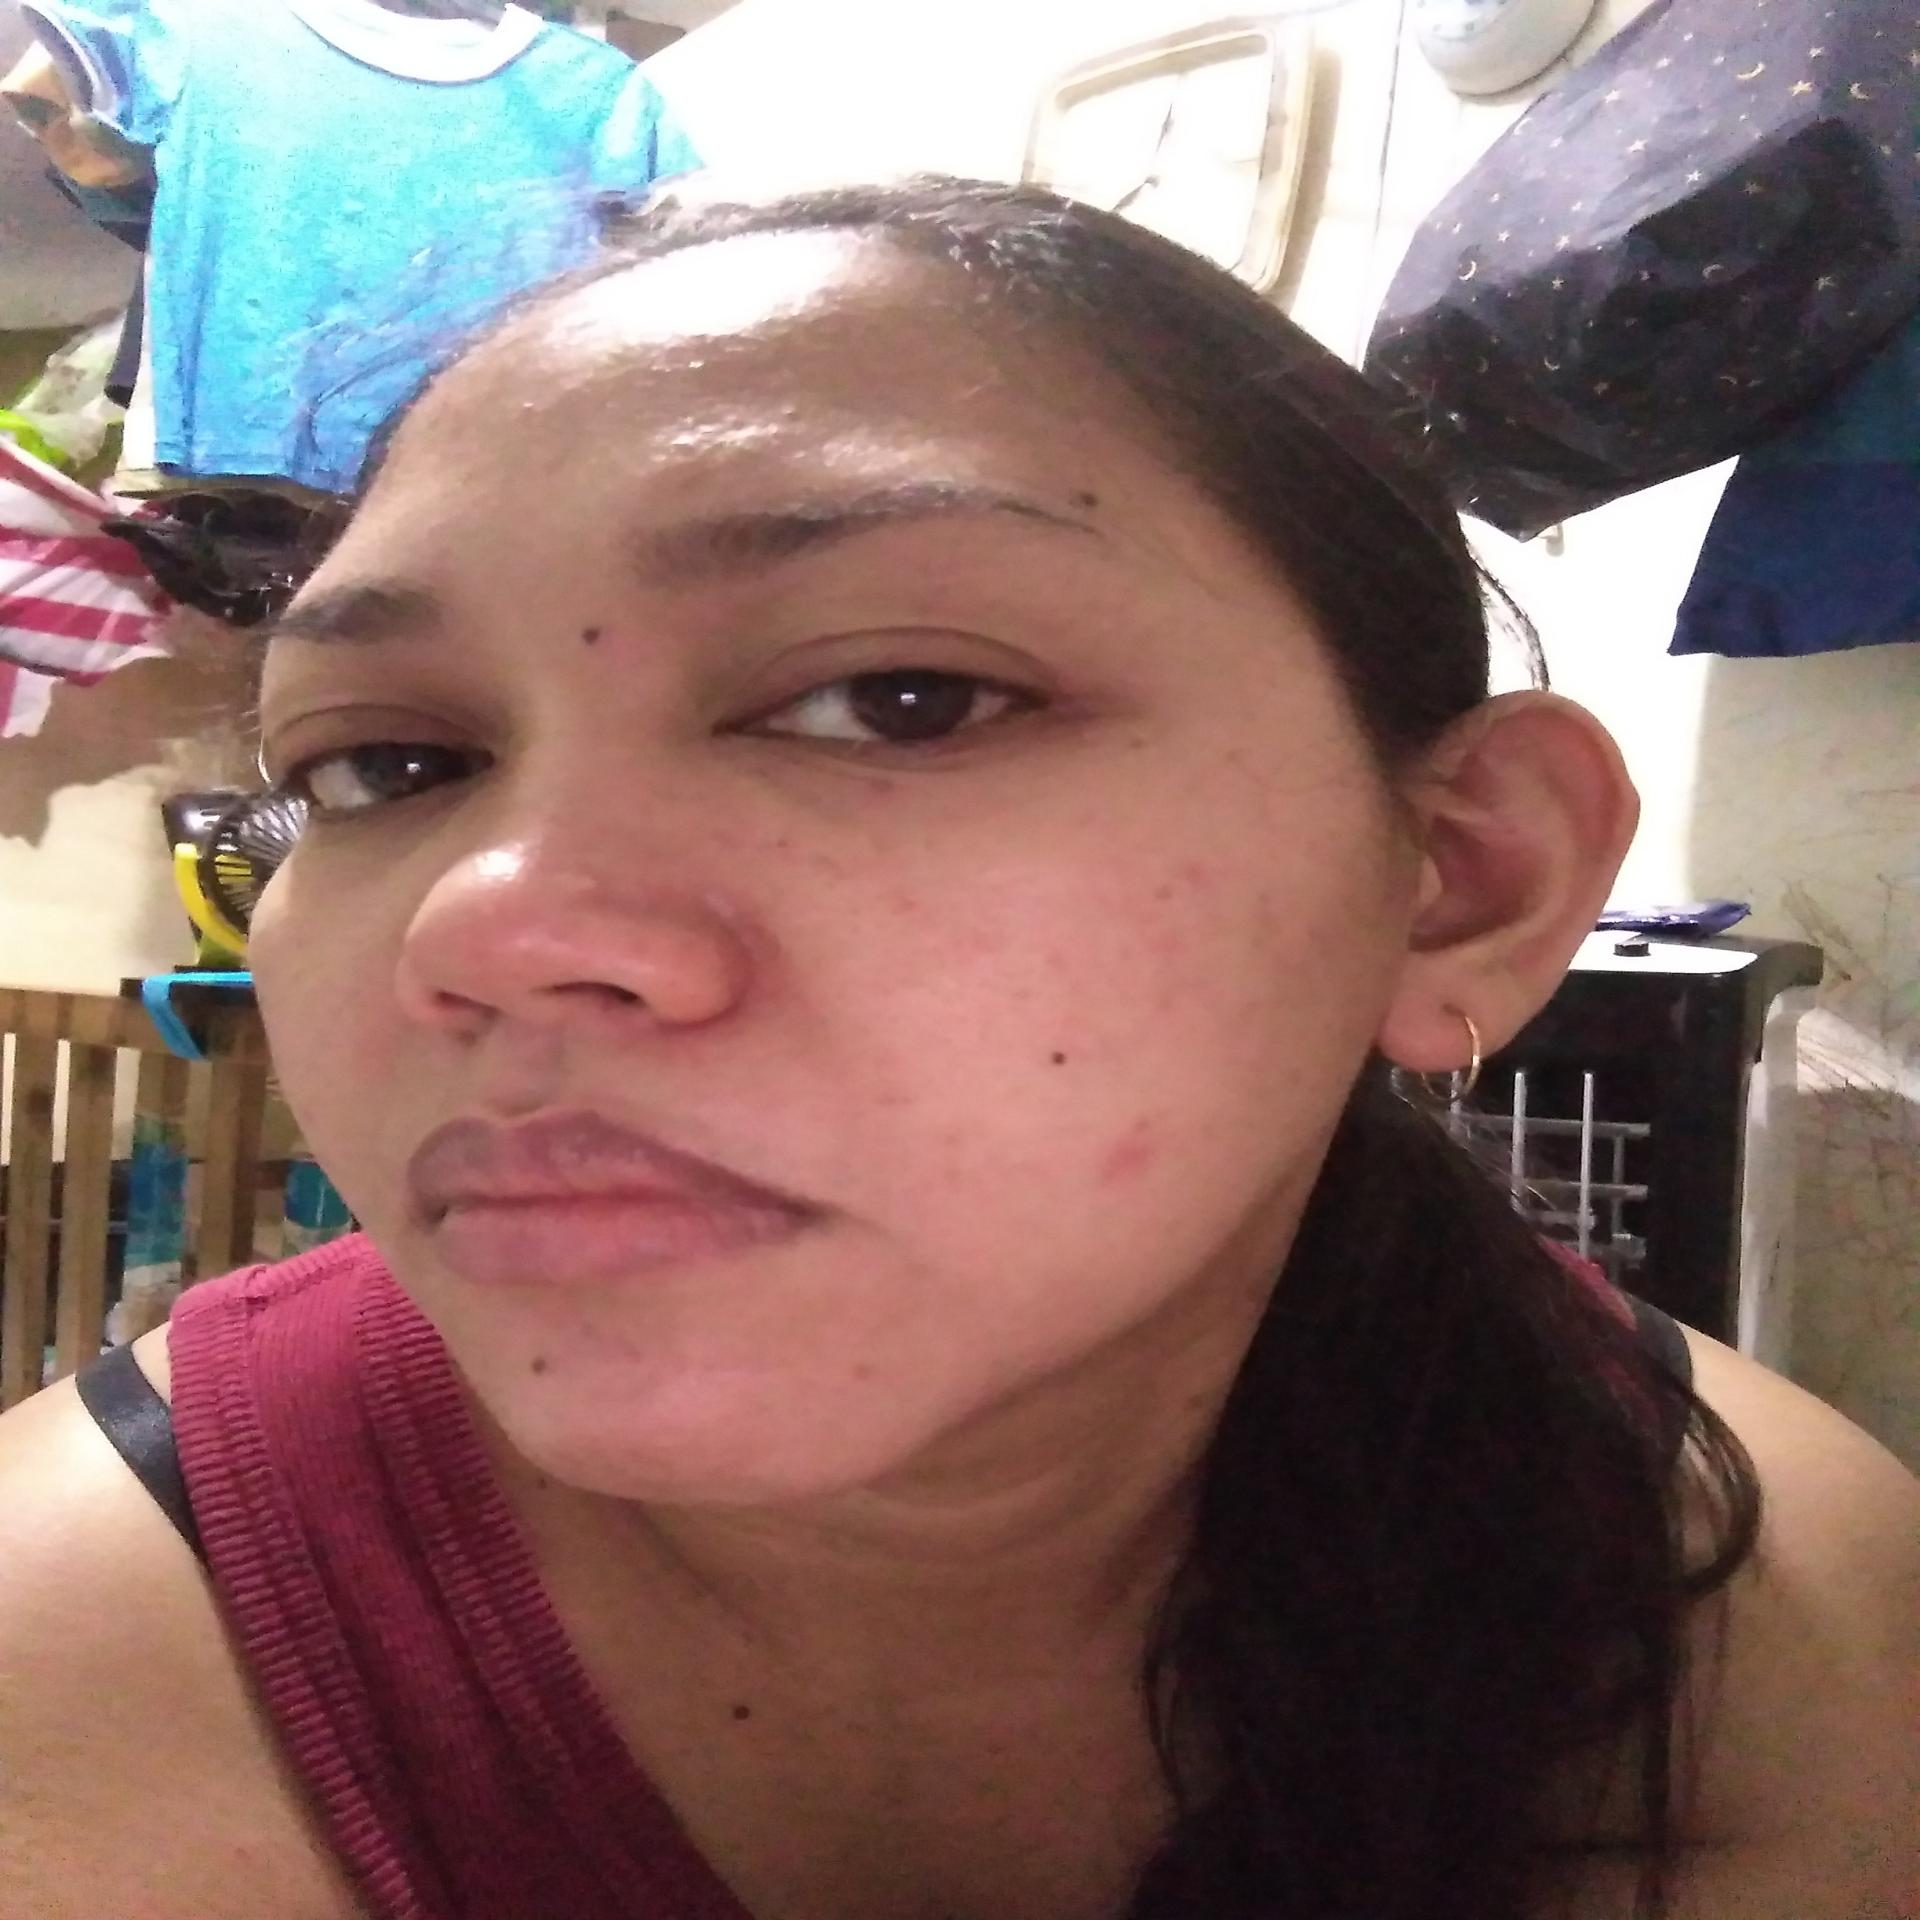Acne: (1088, 1125, 1157, 1211), (1180, 844, 1231, 898), (964, 932, 1013, 969), (568, 858, 617, 895), (1136, 992, 1182, 1030), (837, 1361, 884, 1396), (879, 888, 928, 920)
Dark Circles: (723, 714, 1041, 851)
